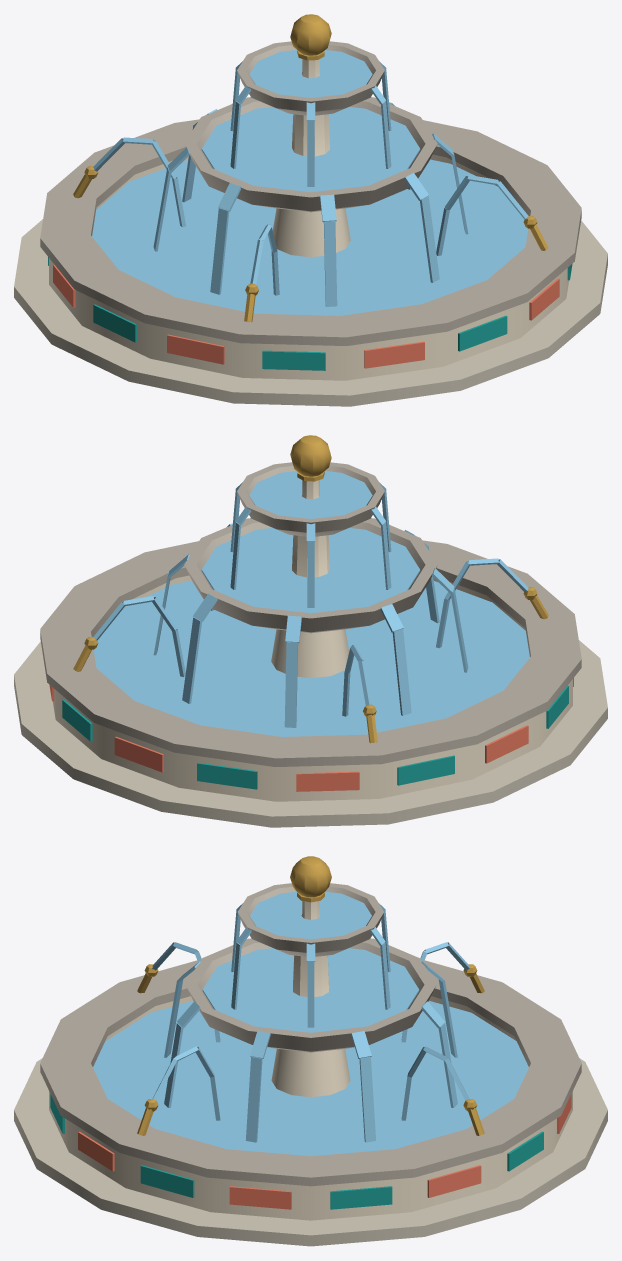
The model's file is fountain.glb.
The picture shows the model from 3 angles, top to bottom: view 1: azimuth 30°, elevation 25°; view 2: azimuth 150°, elevation 25°; view 3: azimuth 270°, elevation 25°; orthographic projection.
Parts seen in each view (by area): view 1: Fountain, Water; view 2: Fountain, Water; view 3: Fountain, Water.
Boxes of the visible parts, box(x1,y1,x2,y2) form: Fountain: box(14, 14, 607, 406); Water: box(92, 50, 528, 315); Fountain: box(14, 435, 607, 827); Water: box(93, 471, 529, 736); Fountain: box(14, 856, 607, 1246); Water: box(93, 891, 528, 1156).
Size of the model in its own units: 6.8 by 3.32 by 6.8.
